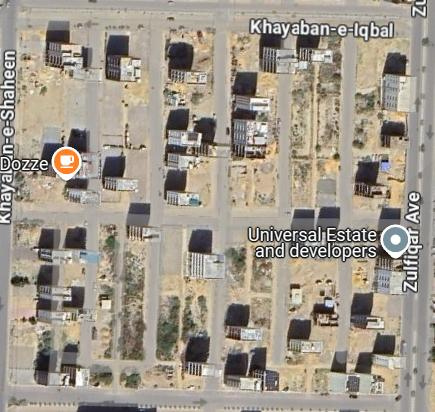Buildings: (222, 242, 401, 396), (6, 28, 150, 210), (6, 224, 150, 388), (351, 27, 411, 223), (154, 228, 216, 388), (289, 20, 339, 215), (163, 30, 212, 214), (231, 33, 279, 212)
